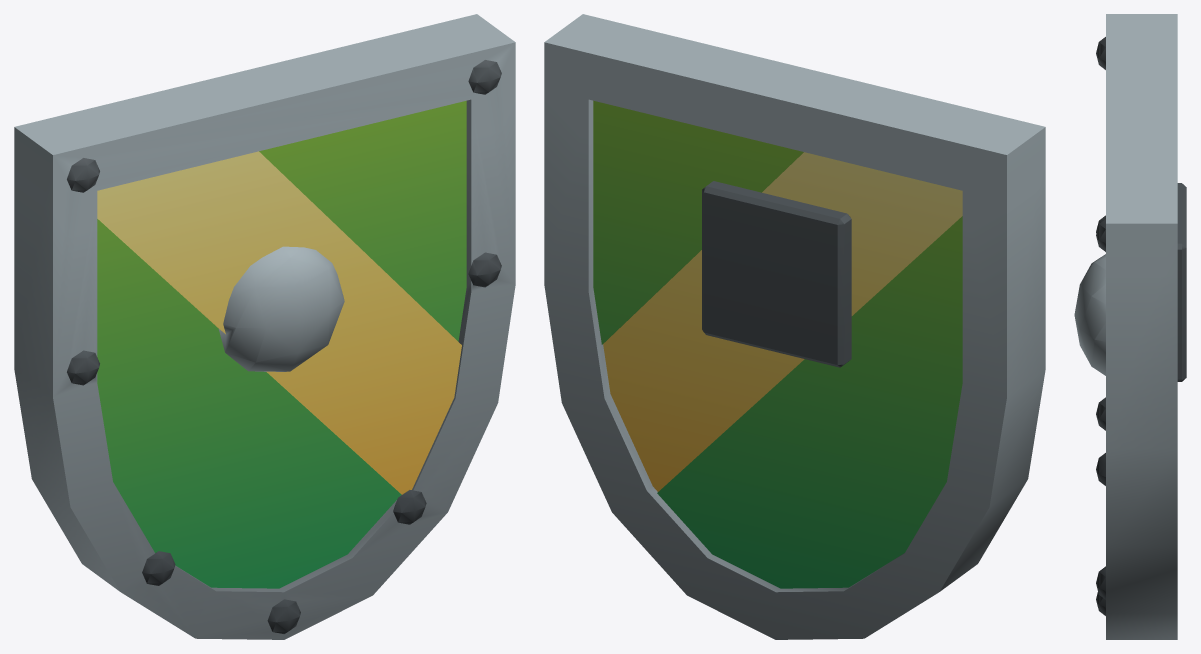
File: shield_bend.glb
3 views of the same model, side by side, from view 1: azimuth 30°, elevation 25°; view 2: azimuth 150°, elevation 25°; view 3: azimuth 270°, elevation 25° (orthographic). The views are drawn at different scales.
Visible parts, largest first — view 1: shield_bend; view 2: shield_bend; view 3: shield_bend.
Boxes of the visible parts, x1,y1,x2,y2 form: shield_bend: (14, 14, 515, 639); shield_bend: (544, 14, 1045, 639); shield_bend: (1074, 14, 1186, 639).
Size of the model in its own units: 1.11 by 1.24 by 0.25.
1 material, 1 textured.
